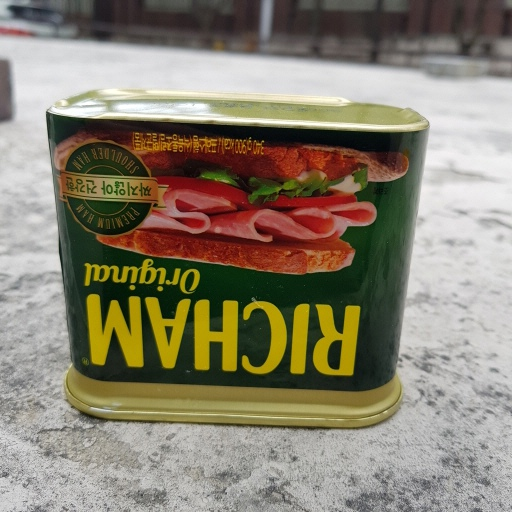Metal_2: (45, 77, 430, 426)
